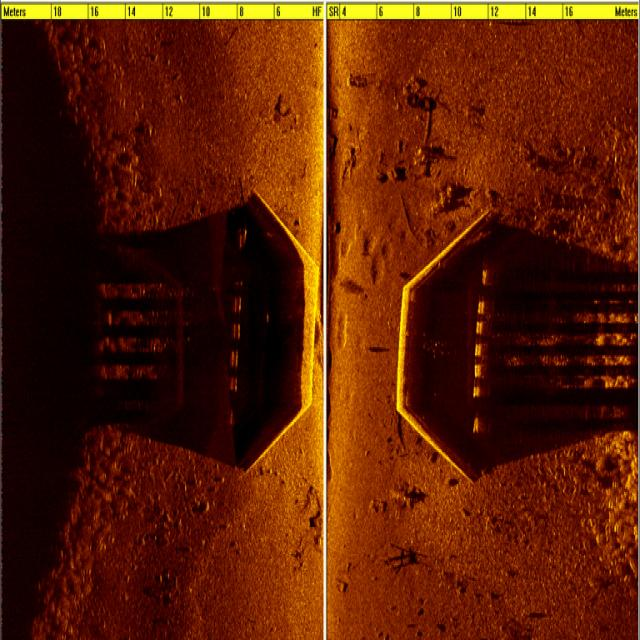other: (377, 178, 525, 478), (213, 165, 315, 480)
